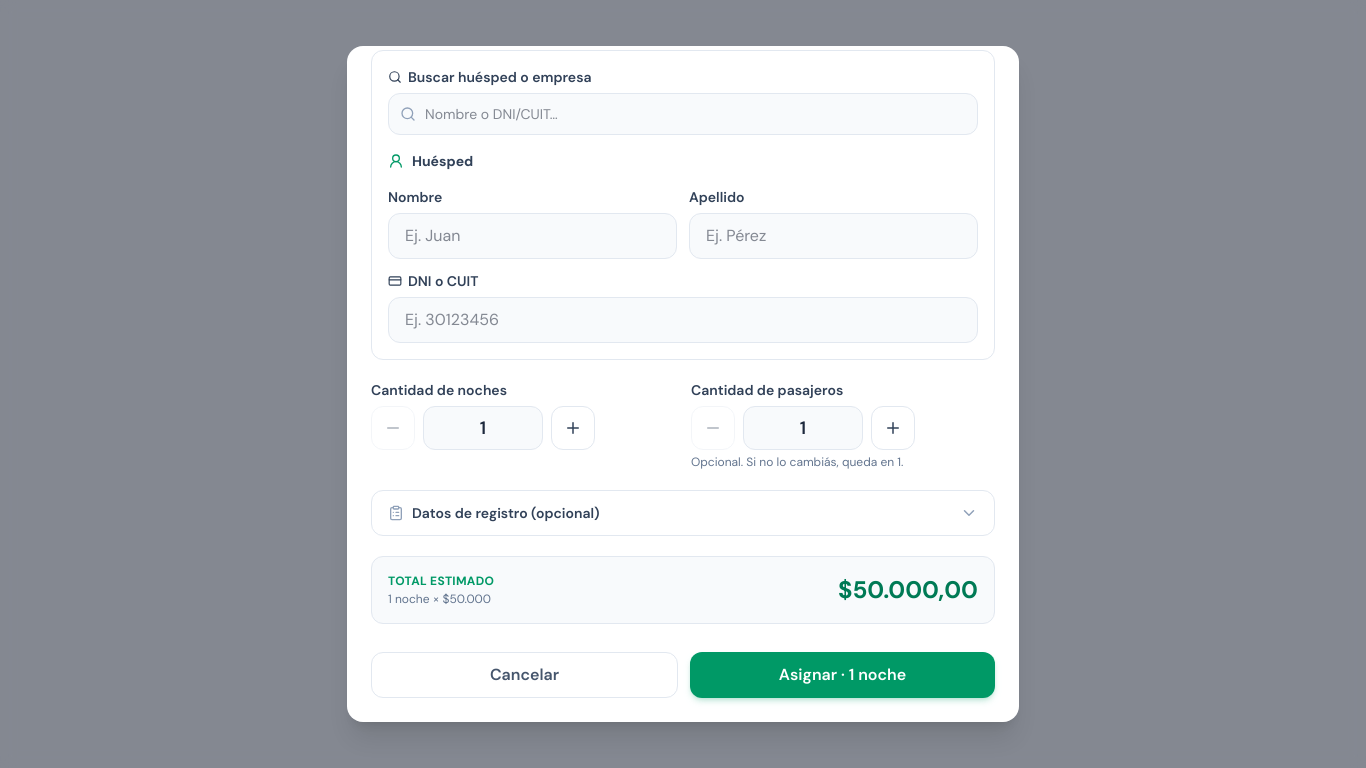
it: WalkInModal: el botón dice qué falta › el submit vacío muestra el aviso, marca los campos y deja el cursor en Nombre sin mandar nada
(page scrolled)
Step 1. Click the submit button → (842, 675), box [690,652,995,698]
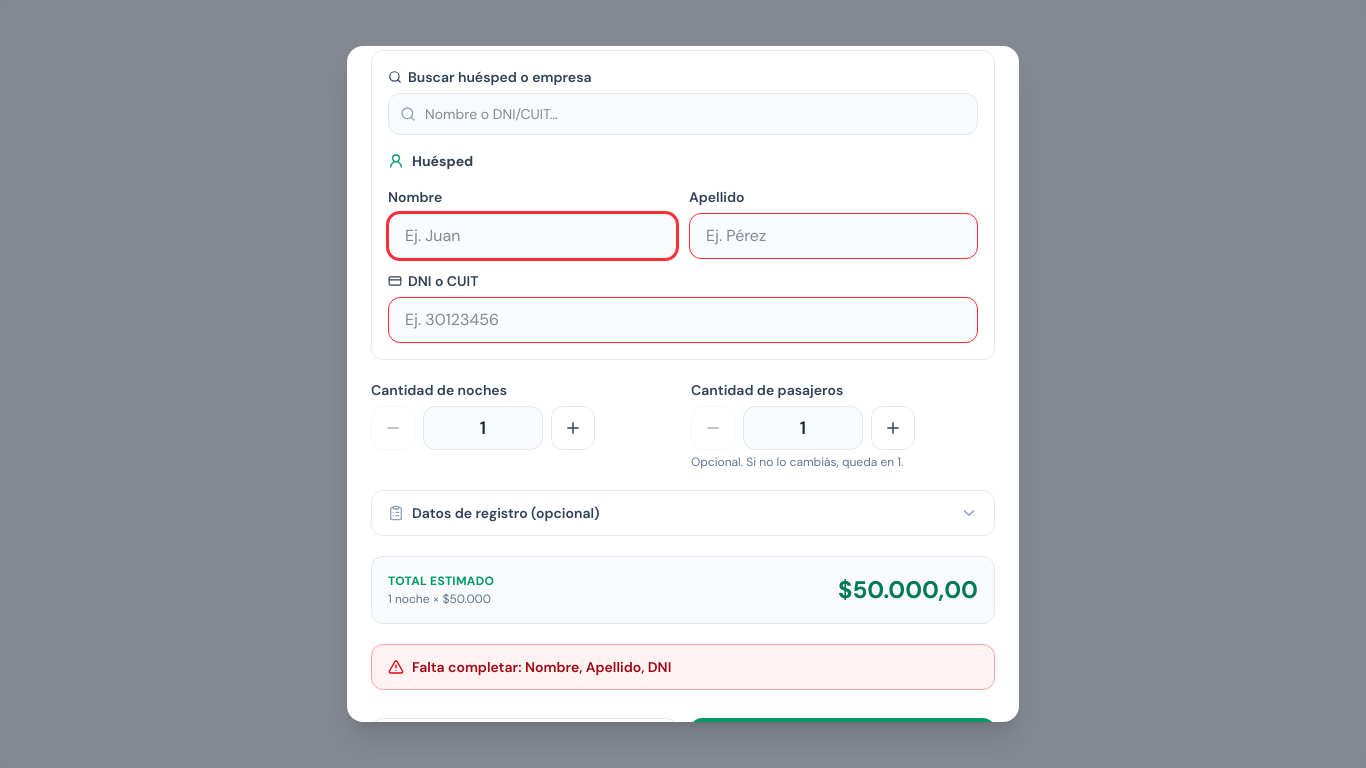
Expected: the text "Falta completar: Nombre, Apellido, DNI" is shown, [412,657,671,677]
Expected: the message "Falta completar: Nombre, Apellido, DNI" is shown, [371,644,995,690]
